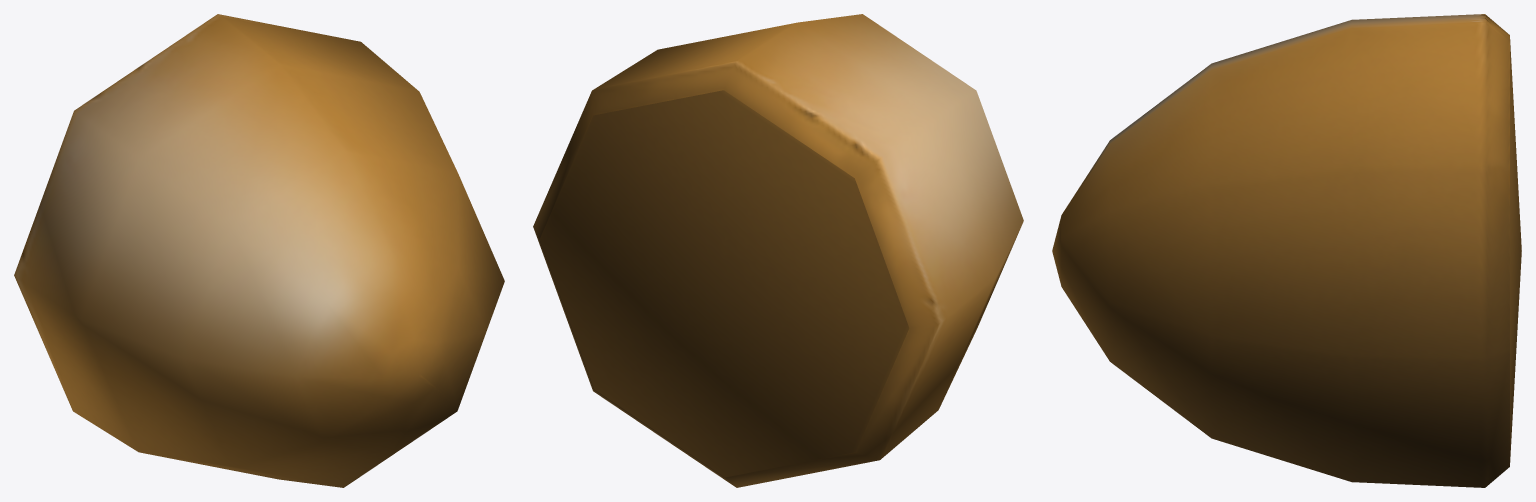
The model's file is DanTou.FBX.
3 renders of one model, left to right at view 1: azimuth 30°, elevation 25°; view 2: azimuth 150°, elevation 25°; view 3: azimuth 270°, elevation 25°, orthographic. The views are drawn at different scales.
Parts seen in each view (by area): view 1: dantou; view 2: dantou; view 3: dantou.
Boxes of the visible parts, bbox=[...] form: dantou: bbox=[14, 14, 504, 487]; dantou: bbox=[533, 14, 1023, 487]; dantou: bbox=[1052, 14, 1521, 487].
Bounding box in the file's own units: 12.7 × 11.84 × 12.7.
1 material, 1 textured.
